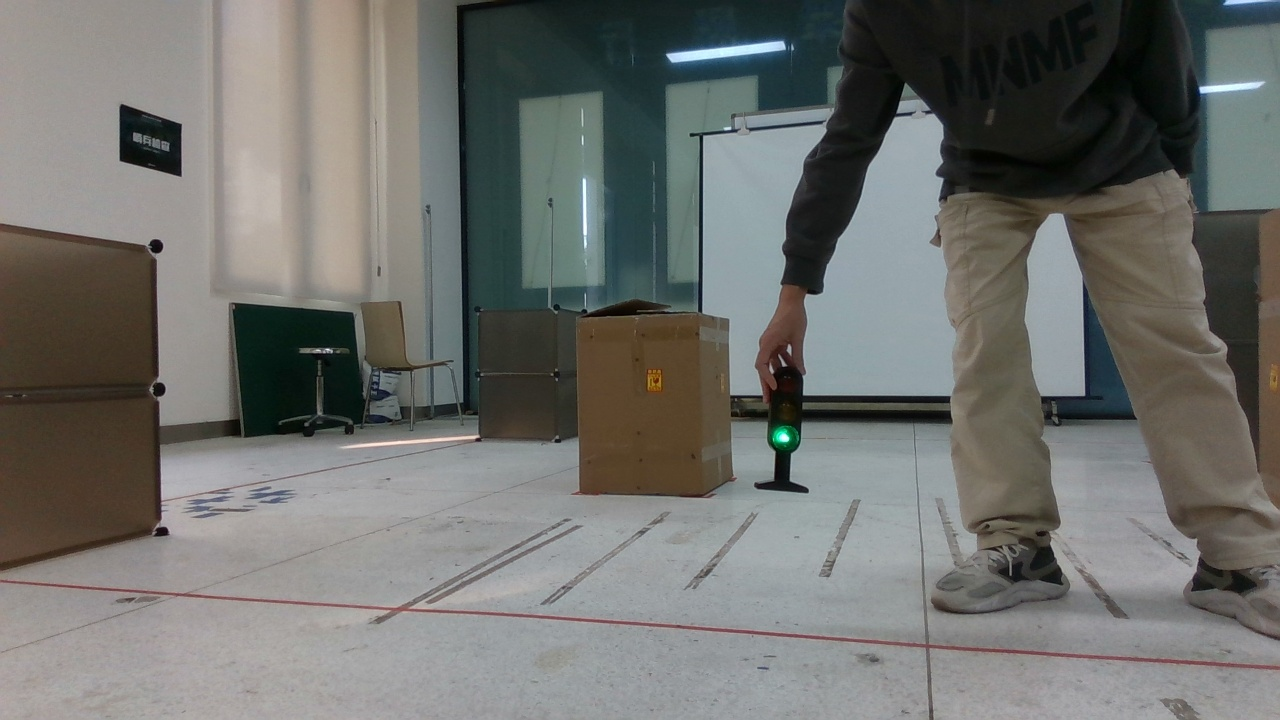green_light: (756, 355, 829, 497)
